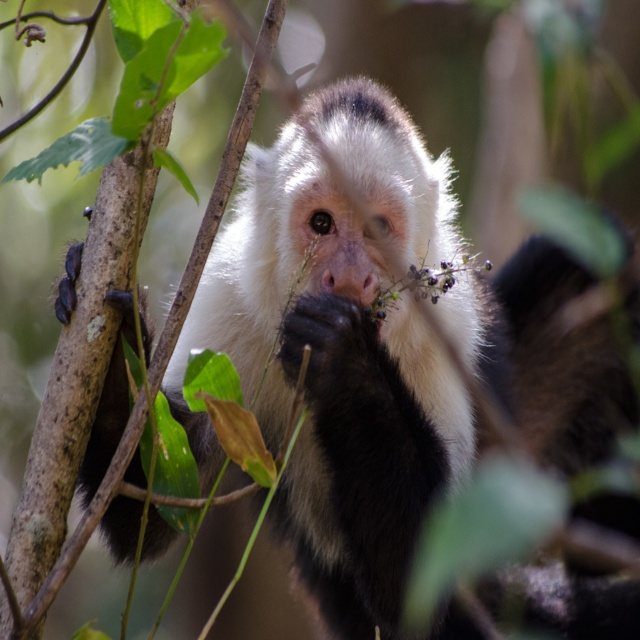Monkey: (47, 74, 640, 640)
